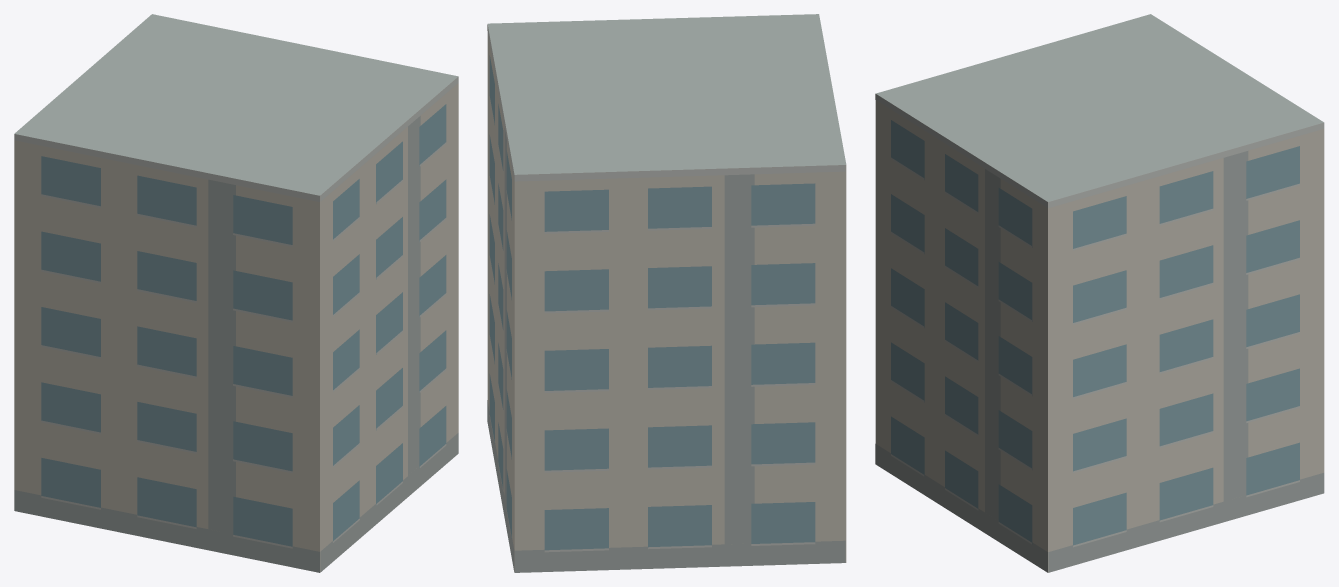
File: survey-upis-32890091.glb
The picture shows the model from 3 angles, left to right: view 1: azimuth 30°, elevation 25°; view 2: azimuth 150°, elevation 25°; view 3: azimuth 270°, elevation 25°; orthographic projection. The views are drawn at different scales.
Visible parts, largest first — view 1: survey-upis-32890091.tmp; view 2: survey-upis-32890091.tmp; view 3: survey-upis-32890091.tmp.
Boxes of the visible parts, x1,y1,x2,y2 form: survey-upis-32890091.tmp: (14, 14, 458, 572); survey-upis-32890091.tmp: (487, 14, 846, 572); survey-upis-32890091.tmp: (875, 14, 1324, 572).
Size of the model in its own units: 15.74 by 14.45 by 15.86.
